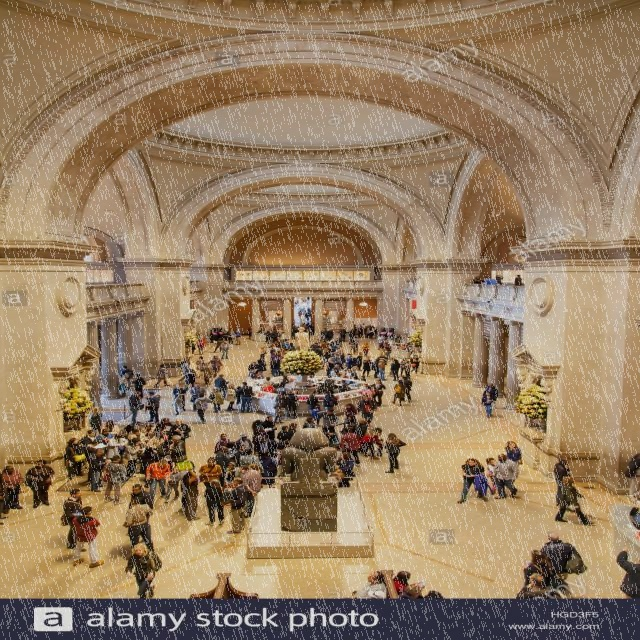pessoa: (278, 427, 336, 482), (540, 531, 588, 581), (124, 542, 162, 603), (122, 495, 156, 561), (69, 506, 105, 568), (554, 475, 595, 525), (455, 457, 493, 505), (61, 488, 89, 552), (220, 476, 249, 534), (24, 459, 56, 509), (101, 454, 128, 506), (238, 465, 264, 518), (491, 452, 519, 500), (515, 572, 563, 599), (524, 550, 558, 588), (0, 465, 25, 515), (344, 571, 388, 599), (202, 479, 228, 526), (618, 546, 640, 600), (127, 484, 155, 524), (145, 458, 171, 499), (180, 468, 200, 521), (337, 427, 363, 467), (85, 448, 108, 492), (309, 338, 345, 365), (384, 433, 408, 473), (64, 436, 86, 479), (136, 446, 160, 484), (554, 457, 572, 507), (392, 570, 426, 596), (624, 452, 640, 504), (258, 451, 279, 489), (335, 452, 357, 488), (198, 457, 223, 488), (180, 467, 198, 510), (215, 446, 233, 487), (360, 427, 382, 460), (250, 418, 274, 448), (192, 392, 214, 424), (238, 447, 265, 473), (256, 434, 284, 459), (163, 466, 181, 504), (142, 391, 162, 425), (356, 394, 378, 424), (328, 415, 359, 436), (316, 408, 340, 435), (124, 440, 141, 478), (504, 440, 523, 474), (154, 417, 174, 449), (248, 464, 262, 509), (266, 338, 296, 359), (168, 418, 192, 444), (128, 390, 145, 425), (222, 460, 241, 490), (112, 433, 130, 464), (105, 434, 127, 459), (171, 382, 187, 416), (236, 382, 253, 414), (189, 381, 207, 411), (0, 473, 10, 527), (483, 458, 498, 494), (368, 378, 387, 406), (168, 434, 186, 462), (260, 415, 278, 442), (390, 379, 408, 406), (479, 391, 496, 419), (152, 363, 171, 388), (213, 374, 230, 401), (273, 391, 290, 418), (208, 386, 224, 414), (234, 434, 254, 456), (286, 390, 300, 420), (83, 440, 102, 462), (398, 584, 427, 598), (132, 374, 148, 399), (292, 327, 310, 349), (224, 384, 238, 412), (89, 406, 102, 436), (146, 427, 170, 443), (482, 382, 500, 403), (182, 369, 198, 392), (400, 375, 413, 403), (232, 444, 247, 468), (214, 434, 232, 454), (276, 424, 294, 444), (322, 390, 339, 411), (305, 392, 319, 417), (144, 434, 167, 449), (94, 428, 114, 445), (272, 400, 286, 424), (208, 354, 223, 376), (102, 419, 120, 437), (80, 430, 98, 448), (423, 589, 446, 603), (201, 364, 215, 386), (177, 360, 191, 382), (272, 439, 290, 456), (128, 429, 148, 444), (408, 354, 422, 375), (118, 374, 130, 398), (361, 386, 376, 405), (254, 360, 268, 380), (366, 590, 389, 602), (140, 423, 157, 439), (343, 402, 358, 420), (356, 418, 368, 440), (194, 356, 207, 376), (311, 405, 324, 425), (362, 356, 374, 377), (247, 368, 258, 389), (377, 339, 389, 358), (120, 366, 136, 380), (224, 443, 238, 459), (390, 359, 400, 381), (402, 360, 413, 380), (286, 423, 298, 441), (302, 416, 320, 428), (118, 424, 134, 437), (269, 360, 281, 377), (220, 340, 230, 360), (376, 360, 386, 380), (349, 375, 360, 393), (480, 276, 502, 285), (342, 370, 356, 384), (211, 338, 224, 353), (371, 358, 380, 378), (180, 359, 190, 376), (360, 341, 370, 358), (399, 357, 407, 378), (320, 327, 334, 339), (382, 343, 393, 358), (232, 330, 242, 346), (196, 339, 206, 355), (257, 346, 267, 362), (376, 438, 384, 458), (345, 353, 355, 369), (356, 352, 364, 372), (512, 274, 522, 290), (312, 386, 332, 394), (332, 446, 343, 460), (351, 366, 362, 380), (376, 335, 387, 349), (347, 339, 357, 354), (338, 327, 348, 342), (388, 358, 396, 376), (280, 375, 291, 388), (270, 328, 280, 342), (262, 330, 272, 344), (226, 330, 236, 344), (275, 382, 286, 394), (323, 374, 336, 384), (327, 364, 340, 374), (263, 376, 276, 386), (352, 336, 360, 352), (221, 328, 230, 342), (262, 383, 276, 392), (247, 361, 258, 372), (367, 325, 376, 338), (289, 325, 297, 339), (472, 275, 483, 285), (276, 327, 284, 340), (356, 325, 364, 338), (364, 325, 372, 338), (392, 334, 402, 344), (346, 328, 356, 338), (378, 353, 389, 362), (495, 274, 504, 285), (304, 328, 312, 340), (338, 384, 350, 392), (330, 368, 340, 377), (402, 342, 412, 350), (246, 326, 252, 339), (304, 311, 312, 320), (234, 325, 243, 333), (288, 388, 300, 394), (393, 336, 402, 344), (359, 374, 367, 382), (297, 310, 303, 319), (189, 345, 195, 354), (304, 322, 310, 330), (310, 322, 314, 334), (357, 322, 366, 327), (306, 306, 311, 313), (278, 323, 284, 328), (306, 296, 310, 303), (302, 322, 306, 328), (290, 323, 296, 326), (352, 324, 356, 328)
